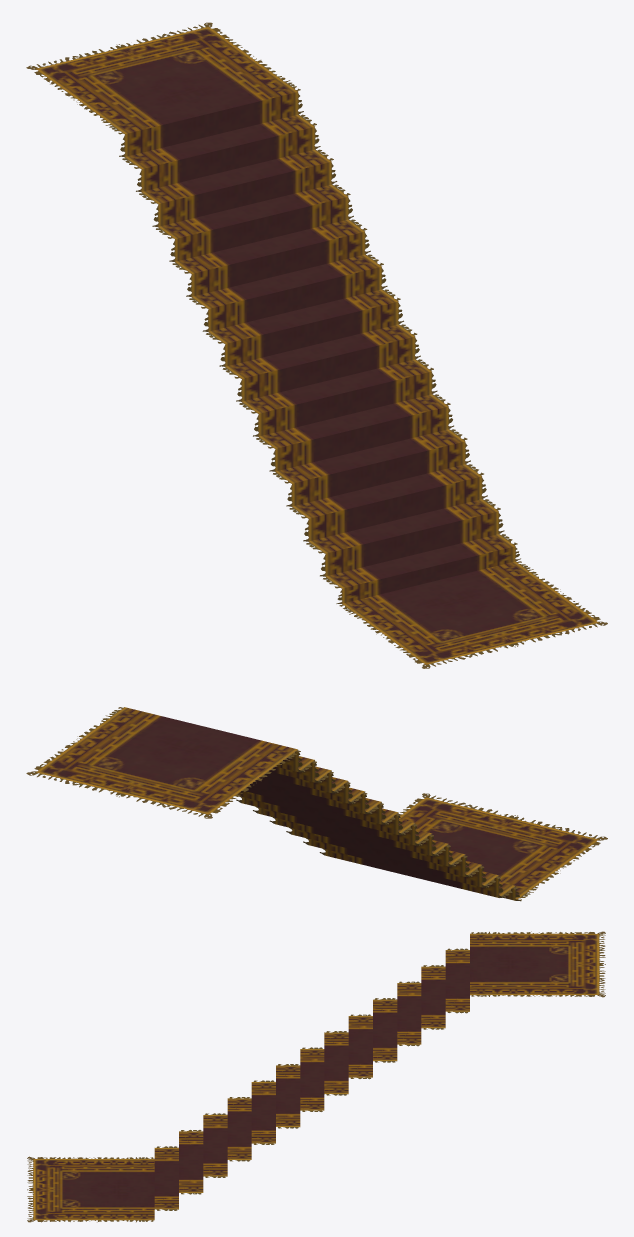
The model's file is Carpet_Str_3.fbx.
3 views of the same model, one above another, from view 1: azimuth 30°, elevation 25°; view 2: azimuth 150°, elevation 25°; view 3: azimuth 270°, elevation 25° (orthographic). The views are drawn at different scales.
Parts seen in each view (by area): view 1: polySurface7346; view 2: polySurface7346; view 3: polySurface7346.
Boxes of the visible parts, x1,y1,x2,y2 form: polySurface7346: [26, 22, 607, 668]; polySurface7346: [26, 707, 607, 901]; polySurface7346: [27, 931, 605, 1222].
Bounding box in the file's own units: 2.6 × 4.1 × 10.
